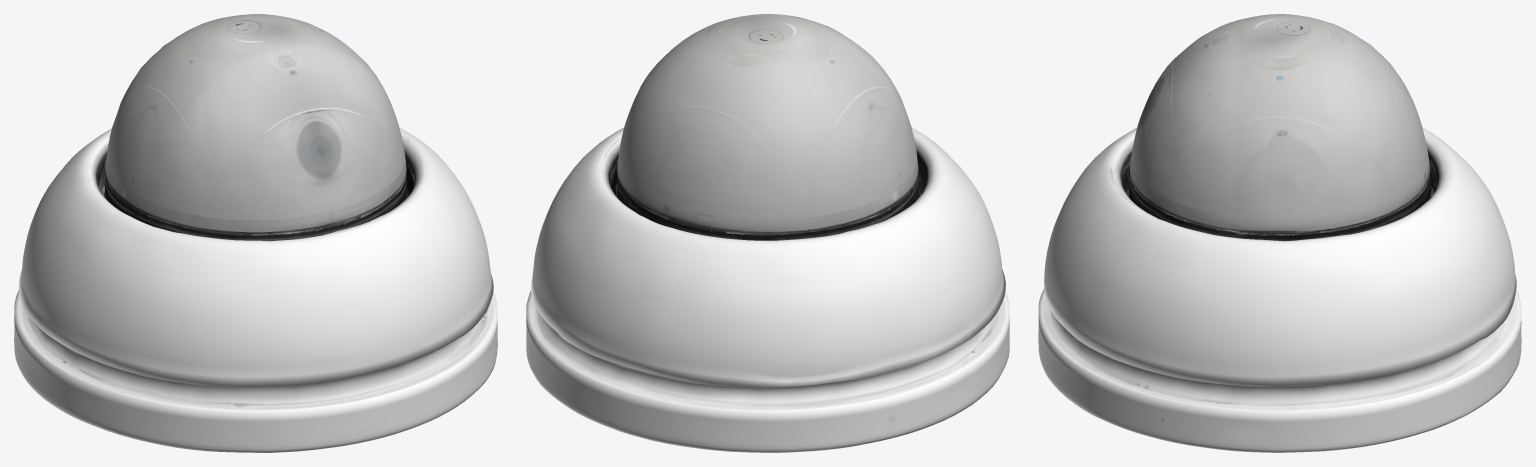
File: Security_Dome_Camera_0617105727_texture.glb
3 renders of one model, left to right at view 1: azimuth 30°, elevation 25°; view 2: azimuth 150°, elevation 25°; view 3: azimuth 270°, elevation 25°, orthographic.
Size of the model in its own units: 2 by 1.48 by 2.
Materials: 1 (1 with a texture image).
